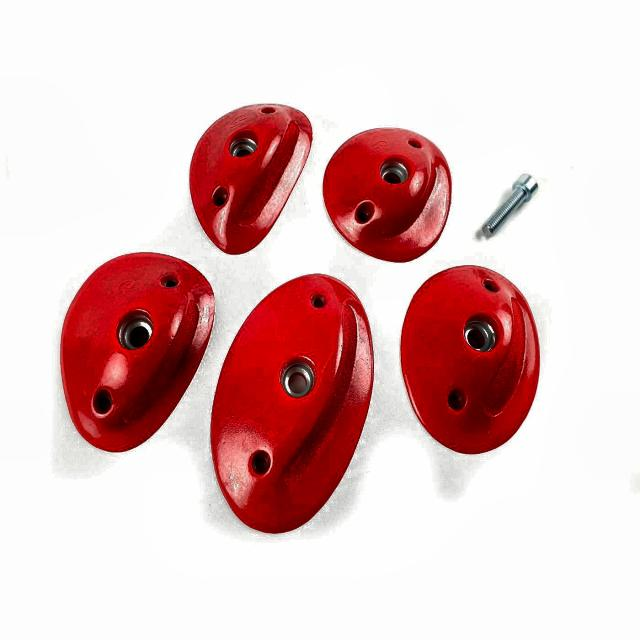Hold: (213, 272, 374, 538), (61, 248, 212, 458), (406, 252, 544, 452), (182, 97, 316, 257), (319, 119, 447, 264)
